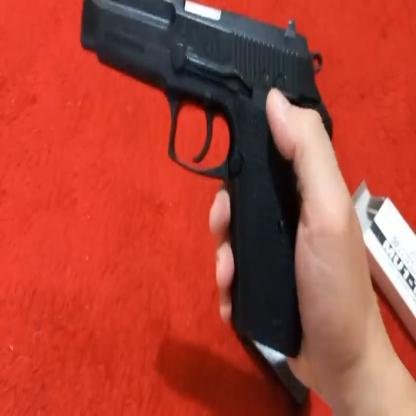handgun: (72, 0, 323, 361)
